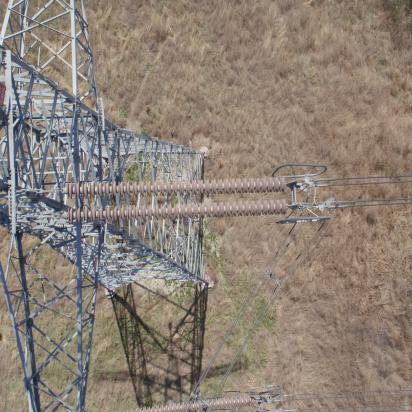insulator: (50, 176, 295, 223)
